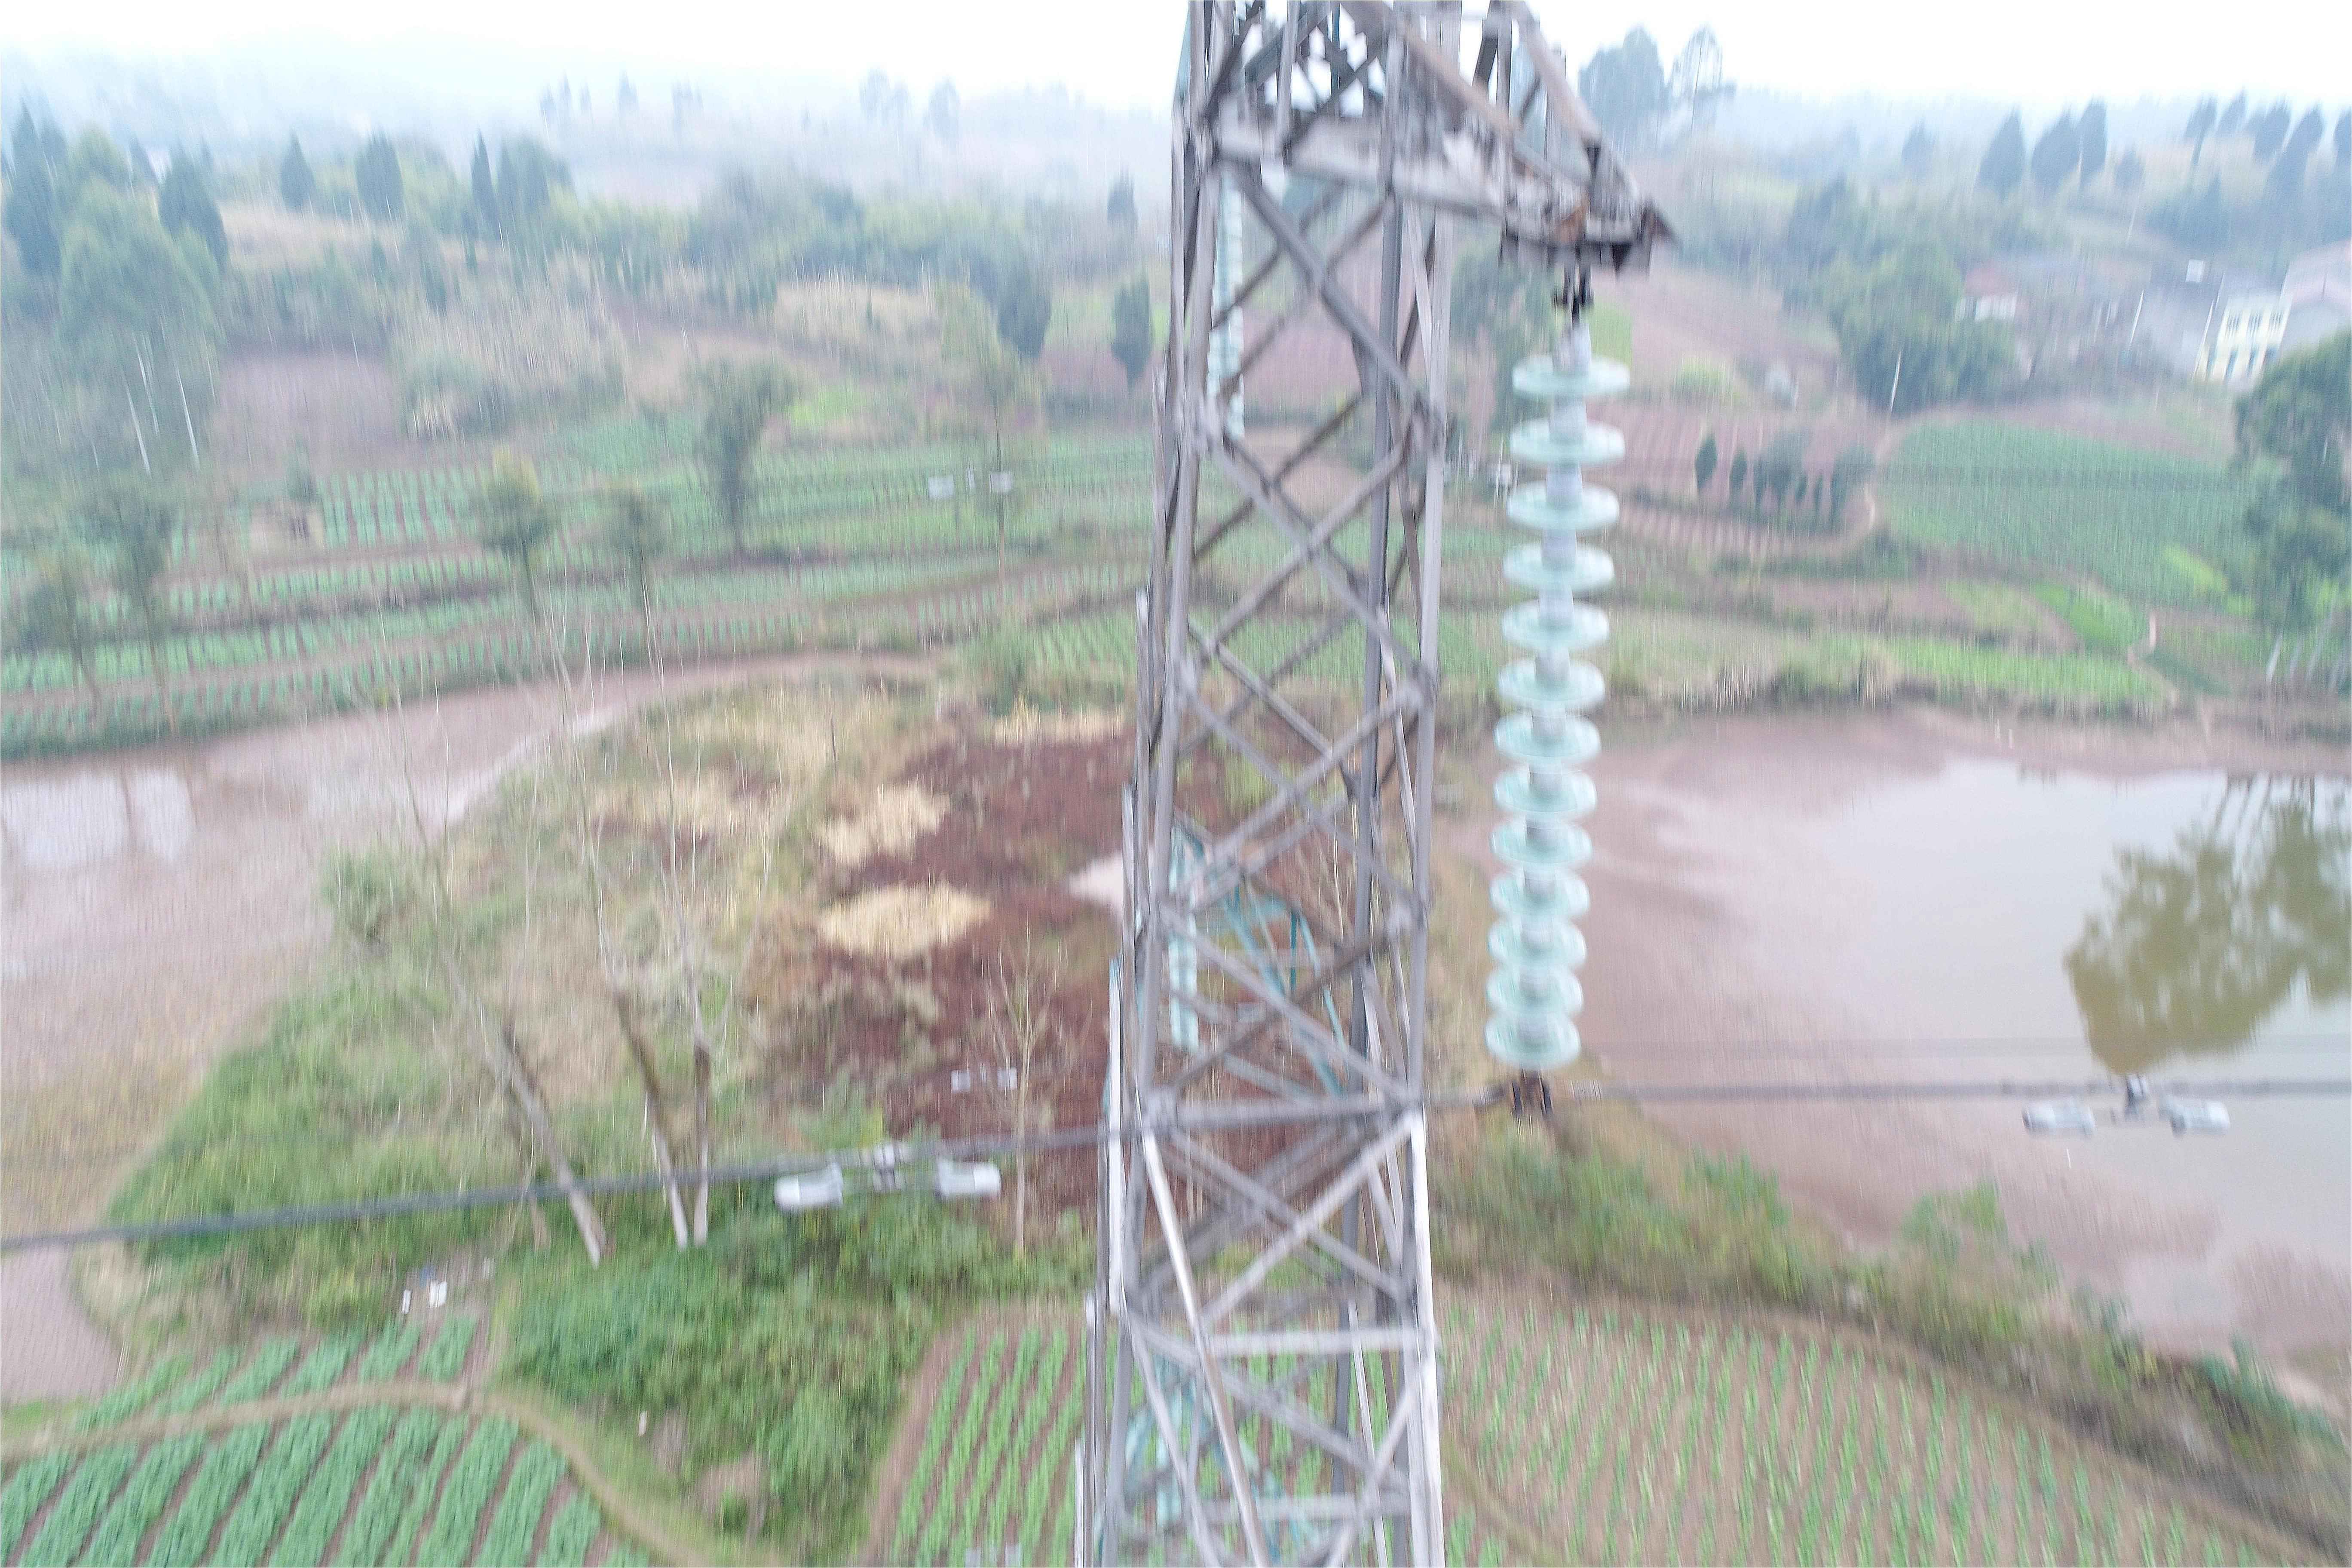insultor3: (1437, 303, 1629, 1087)
